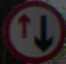Two way: (13, 9, 56, 51)
